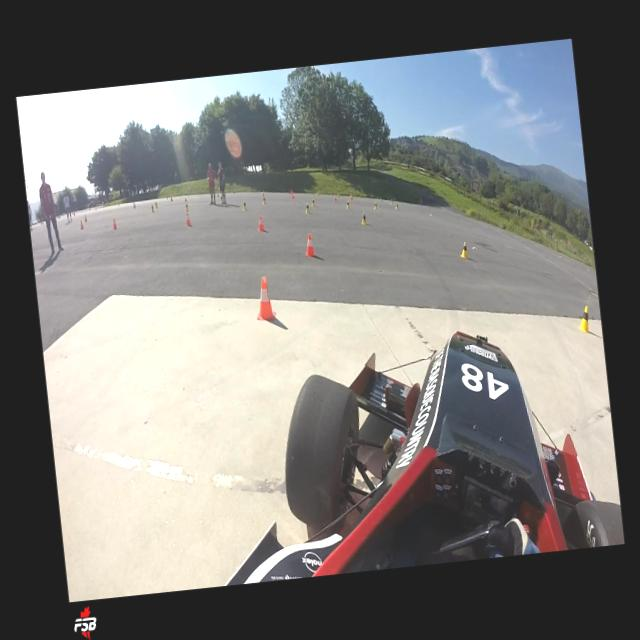orange_cone: (252, 275, 276, 320), (303, 233, 315, 256), (257, 214, 264, 230), (184, 213, 190, 226), (112, 218, 117, 230), (79, 220, 83, 230), (84, 214, 86, 222), (290, 190, 292, 196), (133, 203, 135, 208), (334, 195, 336, 200), (170, 197, 172, 201), (292, 194, 294, 198), (350, 196, 352, 200)
yellow_cone: (576, 305, 590, 334), (458, 240, 468, 260), (360, 212, 366, 226), (304, 202, 309, 214), (184, 202, 189, 212), (346, 200, 350, 210), (242, 201, 246, 211), (310, 198, 314, 206), (262, 196, 266, 204), (154, 200, 158, 208), (219, 196, 223, 203), (151, 204, 154, 212), (395, 202, 398, 210), (374, 202, 376, 209), (184, 197, 186, 203), (390, 200, 392, 204)
